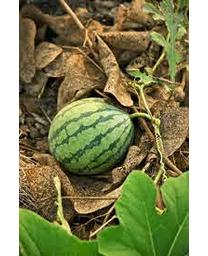watermelon: (48, 97, 134, 179)
